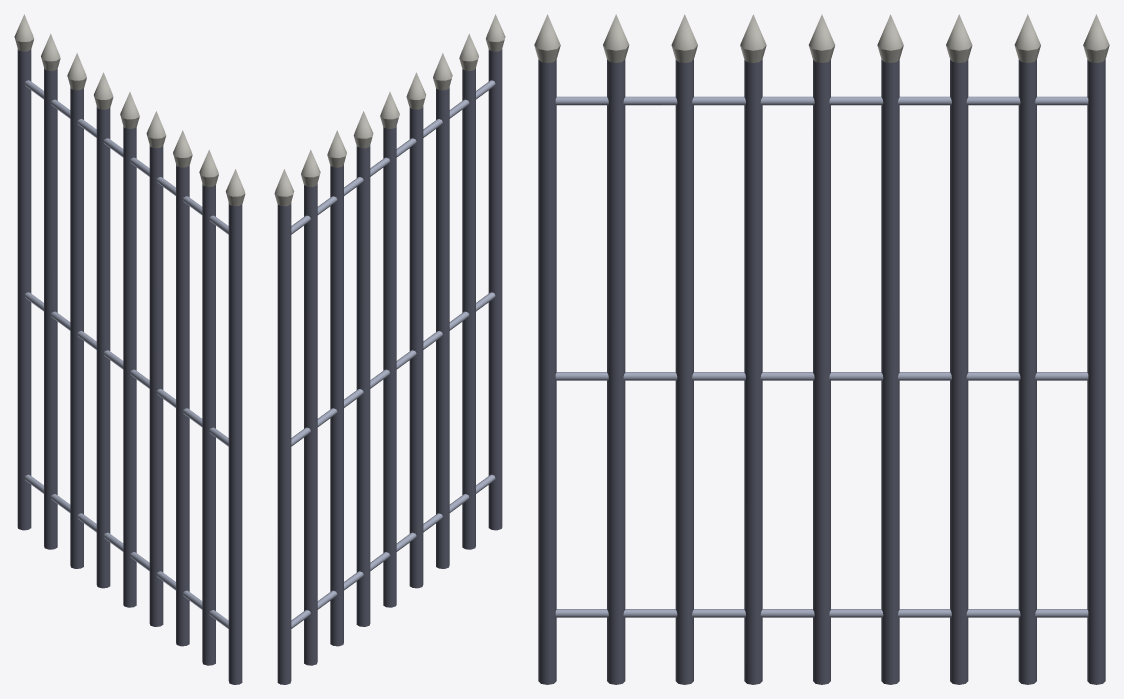
The model's file is Reja Completa.fbx.
The picture shows the model from 3 angles, left to right: view 1: azimuth 30°, elevation 25°; view 2: azimuth 150°, elevation 25°; view 3: azimuth 270°, elevation 25°; orthographic projection. The views are drawn at different scales.
Parts seen in each view (by area): view 1: Cylinder.006; view 2: Cylinder.006; view 3: Cylinder.006.
Boxes of the visible parts, box(x1,y1,x2,y2) form: Cylinder.006: box(14, 14, 245, 684); Cylinder.006: box(274, 14, 505, 684); Cylinder.006: box(534, 14, 1109, 684).
Size of the model in its own units: 11.63 by 322 by 252.
